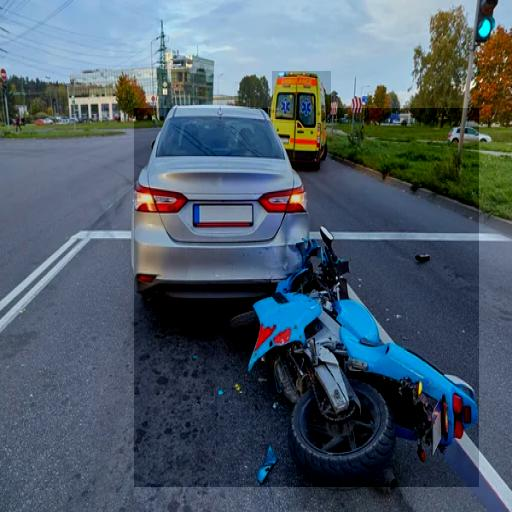小汽车: (272, 71, 331, 170)
小汽车撞自行车: (134, 108, 479, 487)
